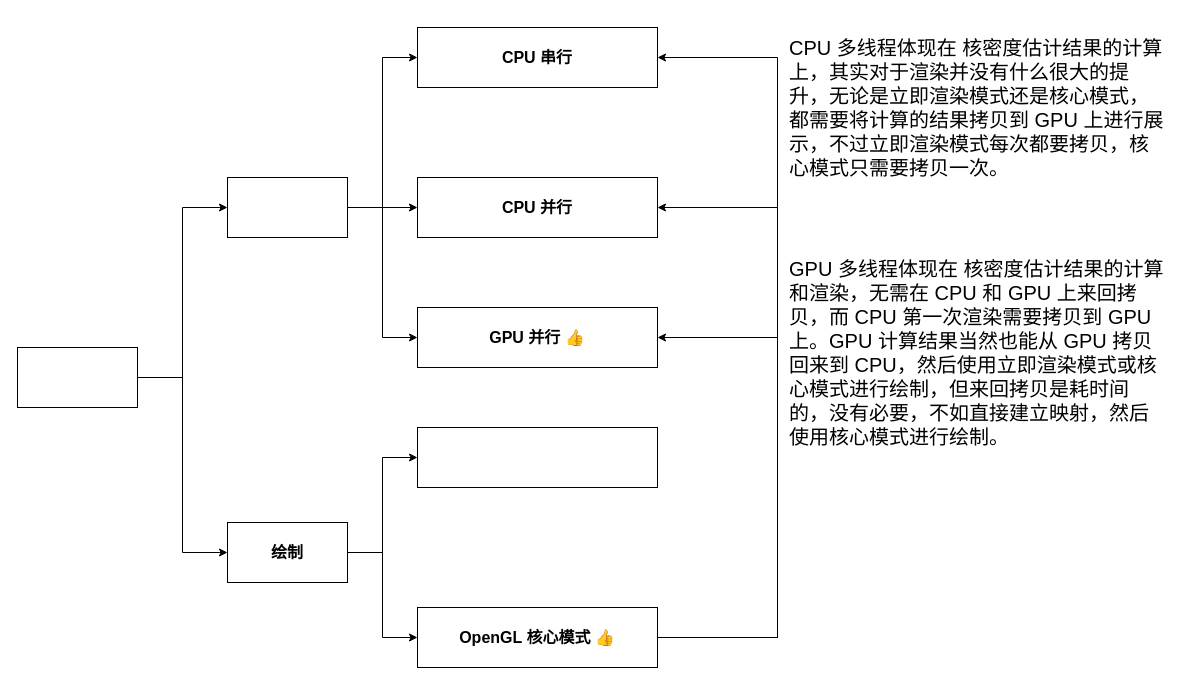
Image size: 1185x685. Some labels were removed from this diagram. Here are the shapes that lost their labels. From the top down, the centre of each, then its label:
the point at 287,207: 计算
the point at 77,377: KDE
the point at 537,457: OpenGL 立即渲染模式
